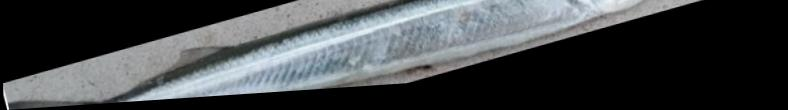fish: (5, 0, 655, 110)
